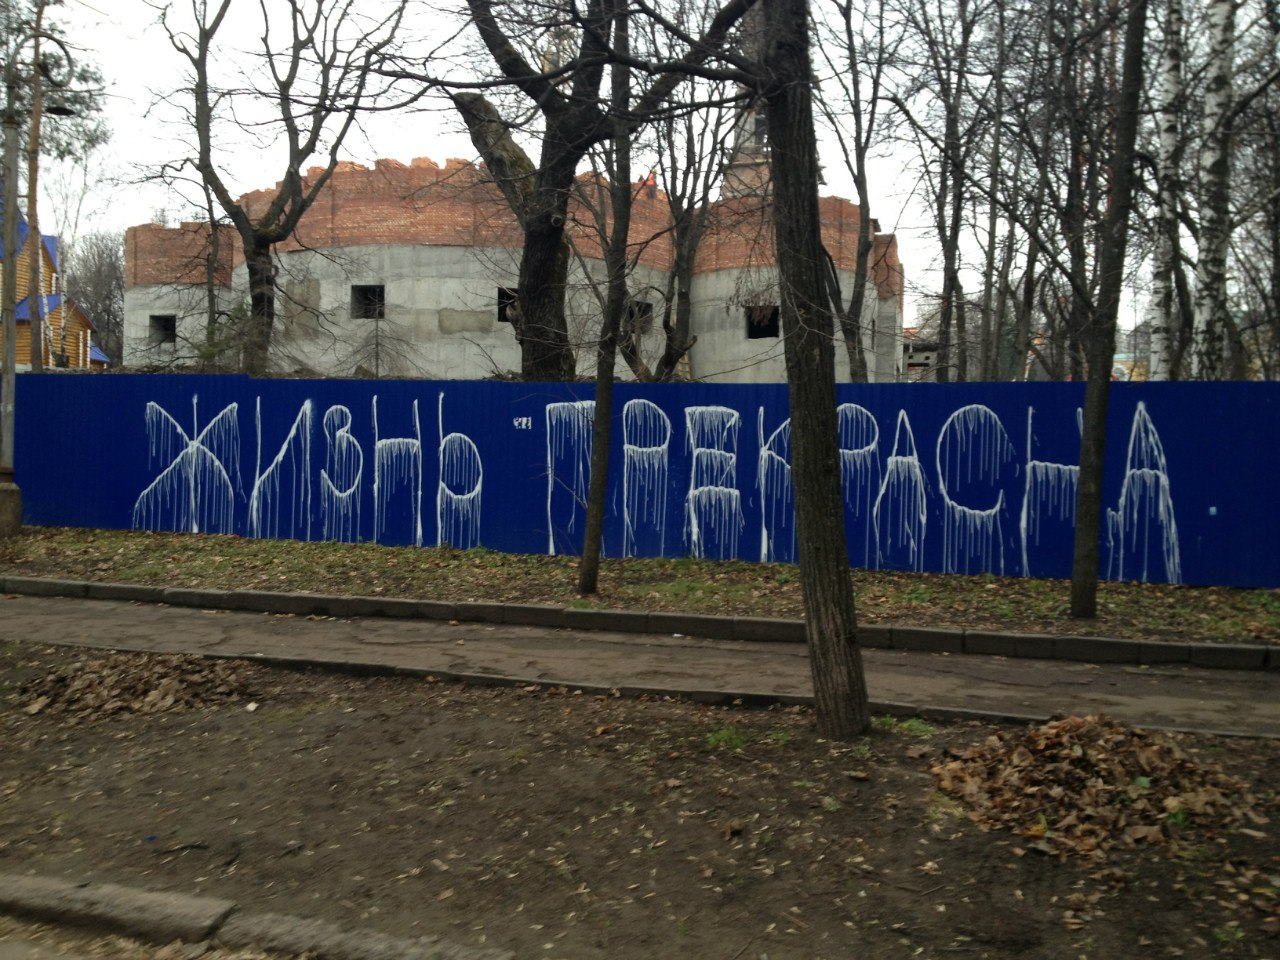graphite: (845, 399, 1209, 576), (141, 389, 498, 541), (538, 394, 789, 541)
